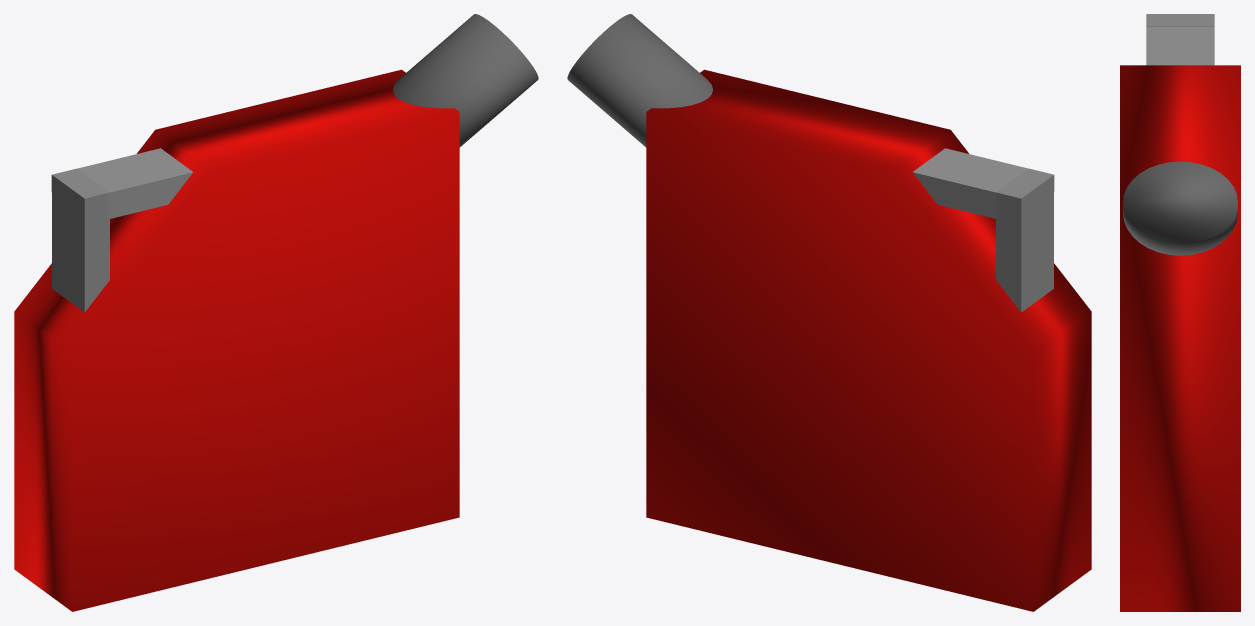
The model's file is Refuel.fbx.
3 views of the same model, side by side, from view 1: azimuth 30°, elevation 25°; view 2: azimuth 150°, elevation 25°; view 3: azimuth 270°, elevation 25° (orthographic). The views are drawn at different scales.
Parts seen in each view (by area): view 1: Cube, Cylinder.001, Cube.002, Cube.001; view 2: Cube, Cylinder.001, Cube.002, Cube.001; view 3: Cube, Cylinder.001, Cube.001, Cube.002.
Part boxes in pixels (x1=…): Cube: x1=14, y1=69, x2=459, y2=611; Cylinder.001: x1=393, y1=14, x2=538, y2=147; Cube.002: x1=51, y1=168, x2=109, y2=312; Cube.001: x1=77, y1=148, x2=193, y2=219; Cube: x1=646, y1=69, x2=1091, y2=611; Cylinder.001: x1=567, y1=14, x2=712, y2=147; Cube.002: x1=996, y1=168, x2=1054, y2=312; Cube.001: x1=912, y1=148, x2=1028, y2=218; Cube: x1=1120, y1=65, x2=1240, y2=611; Cylinder.001: x1=1123, y1=161, x2=1237, y2=255; Cube.001: x1=1146, y1=27, x2=1214, y2=65; Cube.002: x1=1146, y1=14, x2=1214, y2=26.
Bounding box in the file's own units: 248 × 228 × 51.92.
